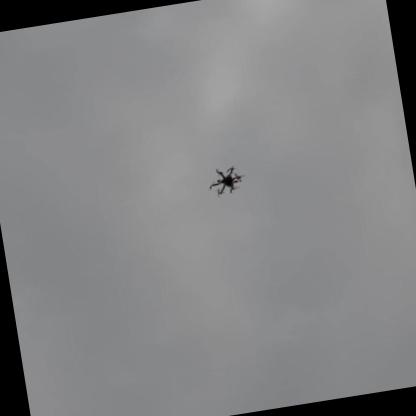drone: (202, 160, 251, 200)
